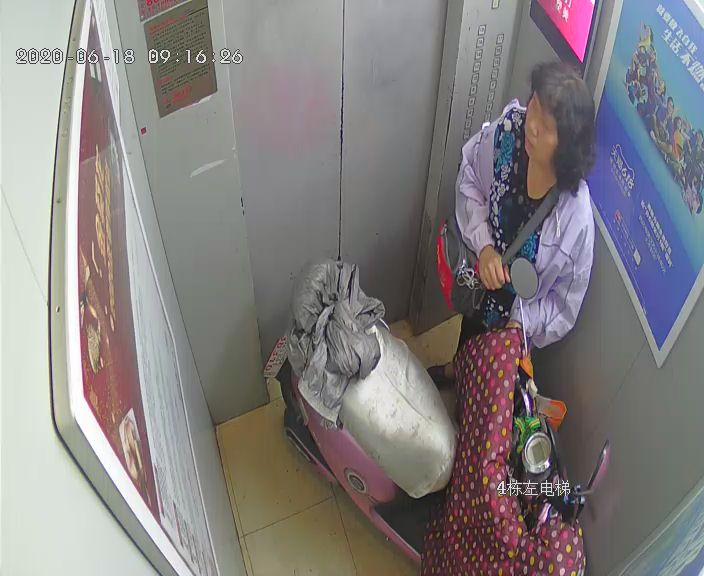Electric-bicycle: (268, 256, 612, 574)
